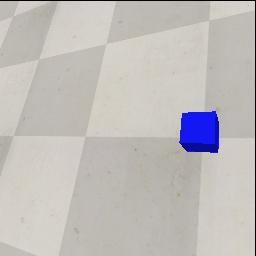box: (179, 111, 219, 153)
